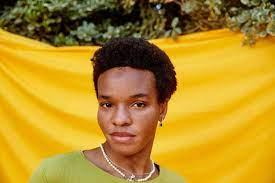Persons: (87, 34, 174, 167)
